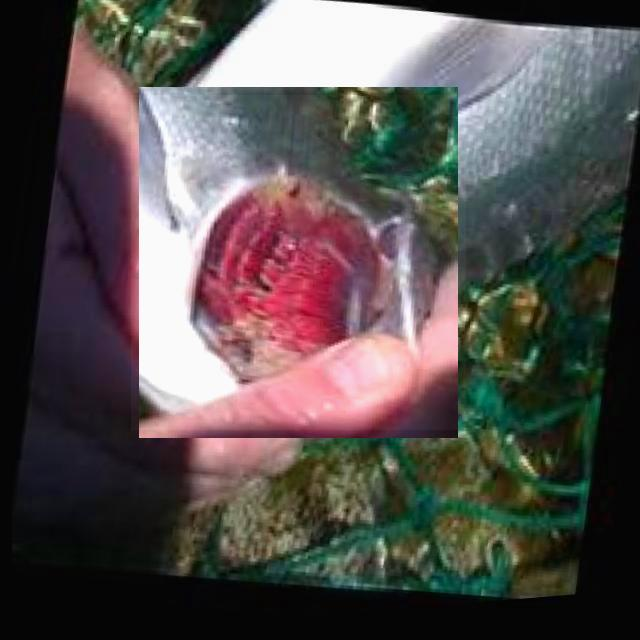Gill Disease: (131, 95, 466, 430)
